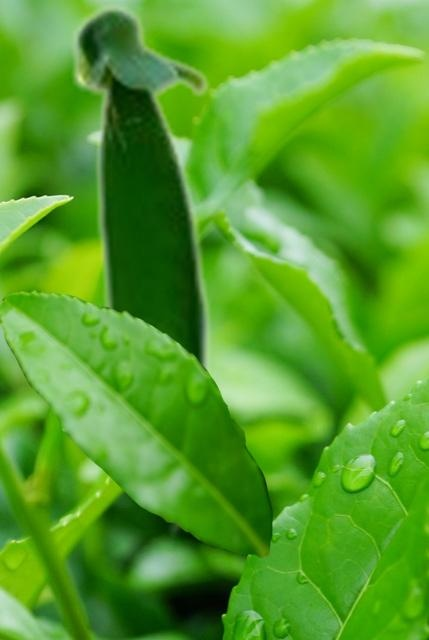pea: (68, 1, 212, 536)
